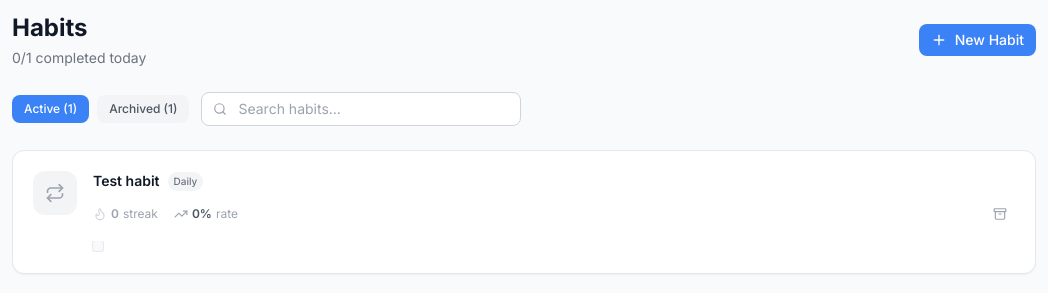
Habits page › switches to archived tab and shows archived habits
The width and height of the screenshot is (1048, 293).
Expected: the heading "Test habit" is shown, [93,171,160,191]
Click the button "Archived (1)": (143, 109) [97,95,190,123]
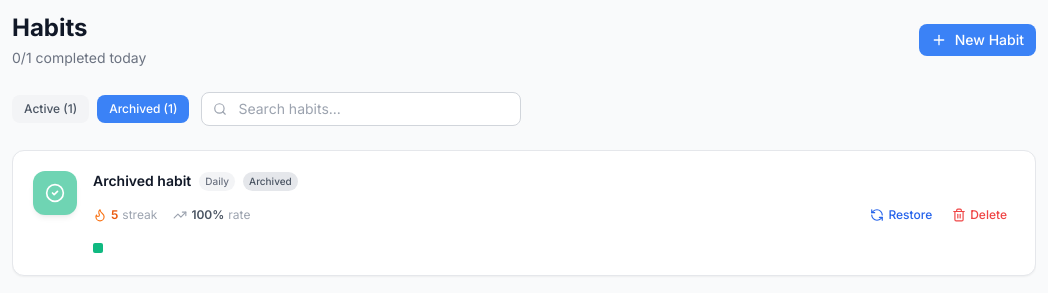
Expected: the heading "Archived habit" is shown, [93,171,191,191]
